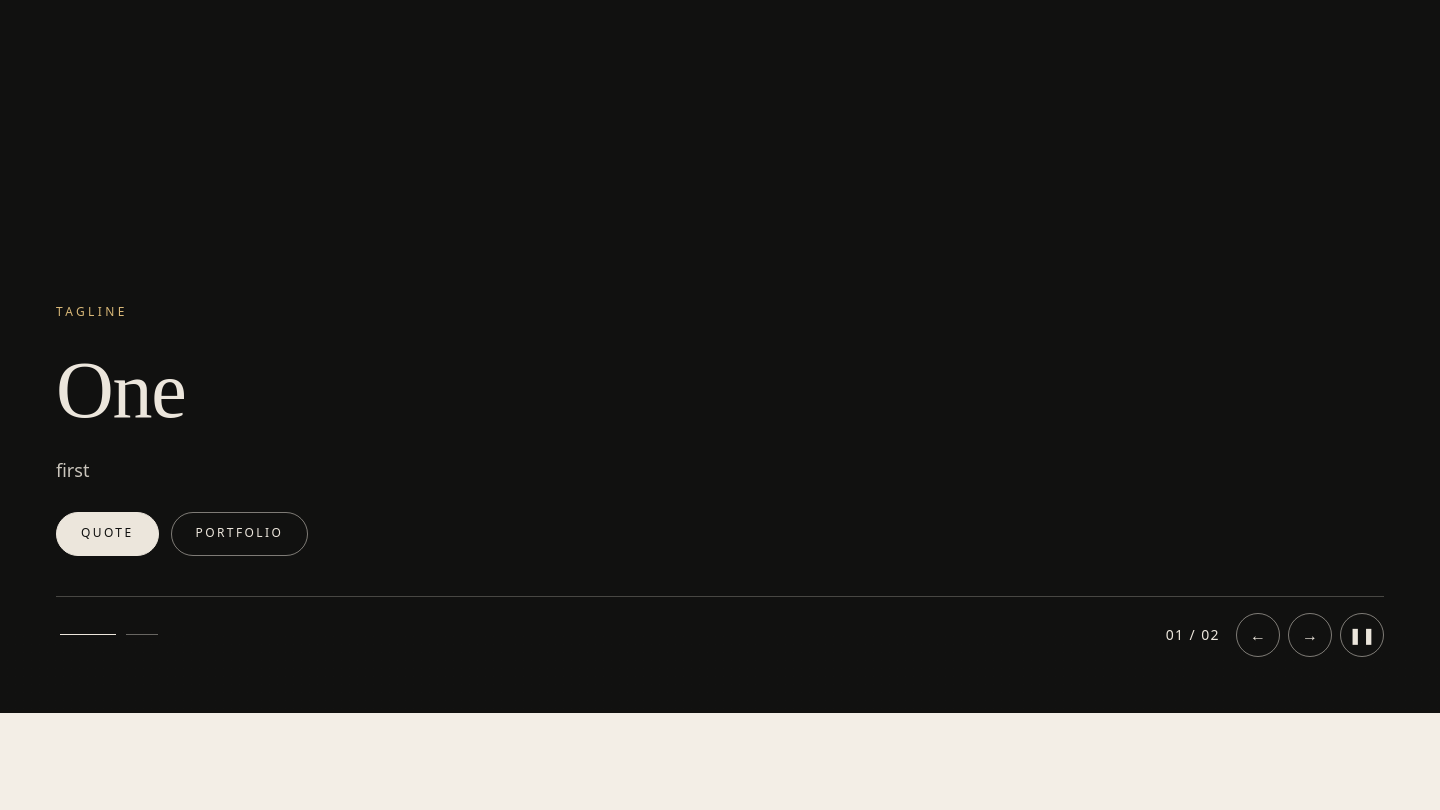
Scenario: HeroSlides › shows the first slide and lets the visitor reach the others
Check: the heading "One" is shown, box [56,346,186,434]
Click the button named "Slide 2" at point(142, 635), box [120,613,164,657]
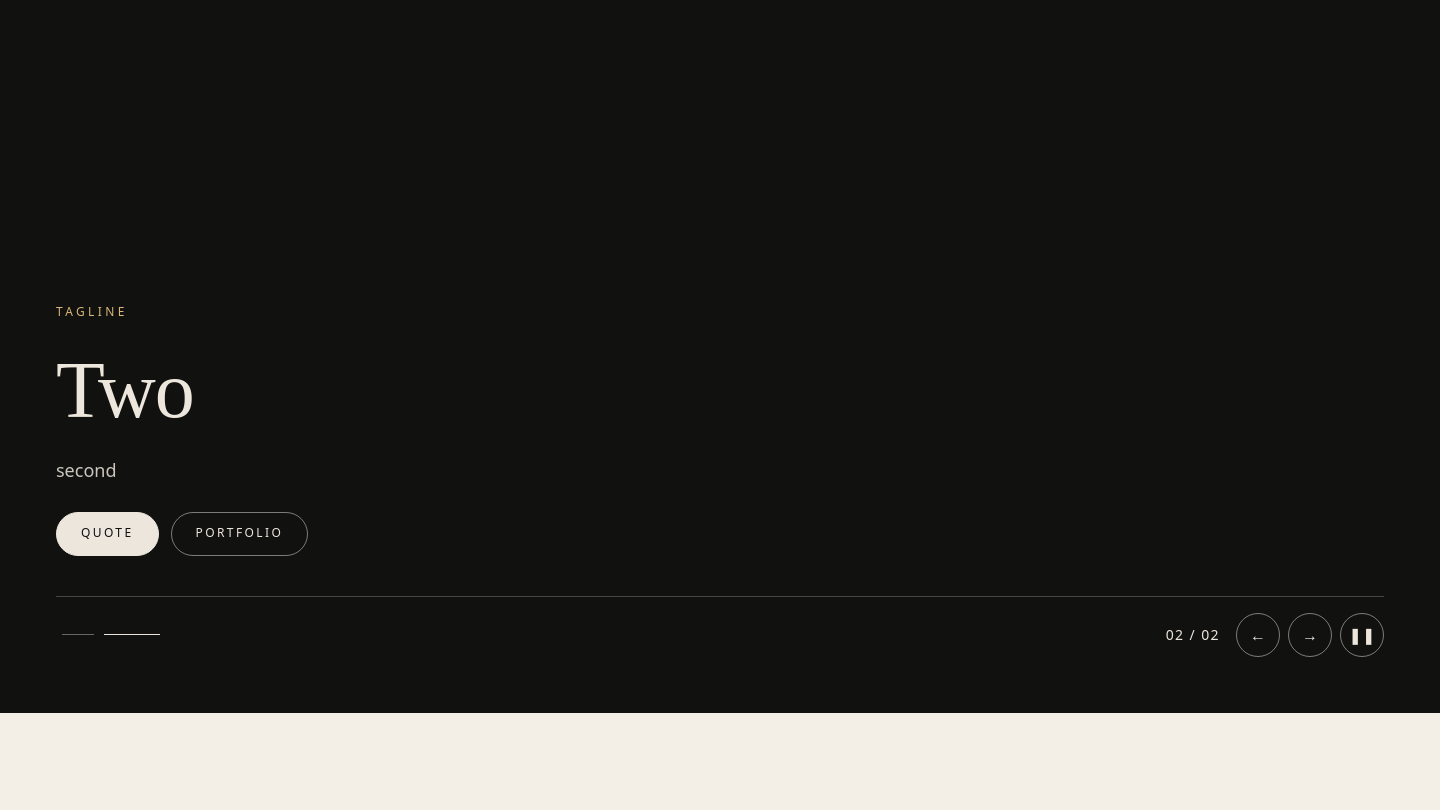
Check: the heading "Two" is shown, box [56,346,194,434]
